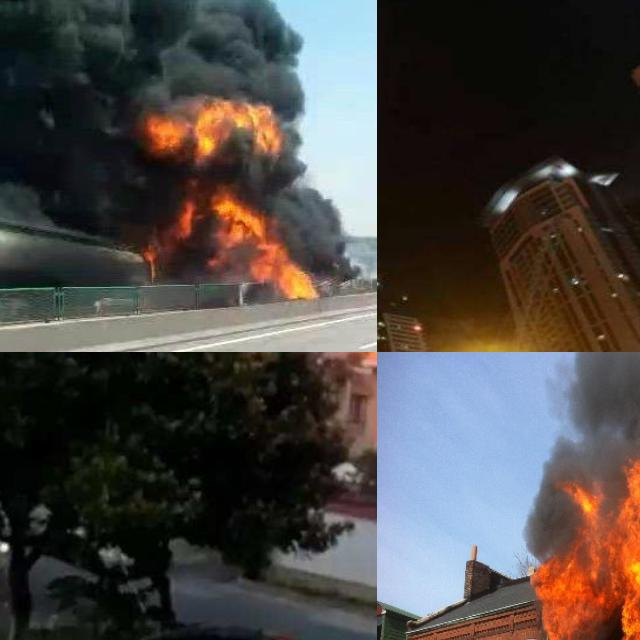fire: (128, 99, 328, 301), (534, 417, 640, 640)
smoke: (0, 0, 352, 269), (528, 352, 640, 631)
